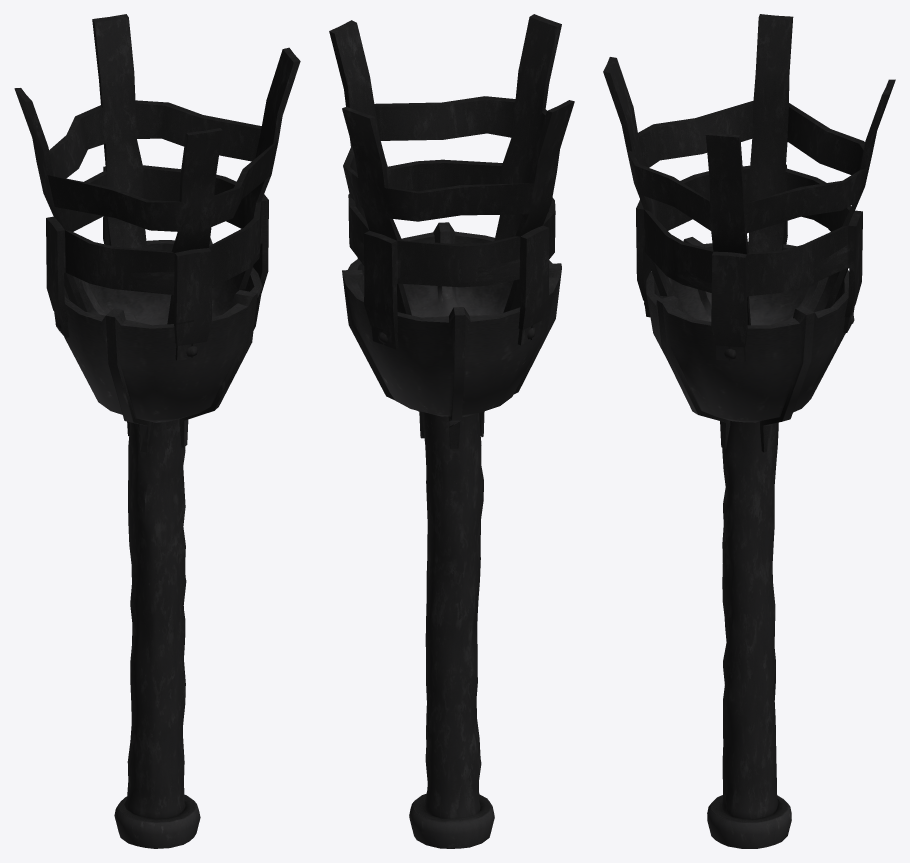
Rendered from torch.fbx.
3 renders of one model, left to right at view 1: azimuth 30°, elevation 25°; view 2: azimuth 150°, elevation 25°; view 3: azimuth 270°, elevation 25°, orthographic.
Parts seen in each view (by area): view 1: Torch; view 2: Torch; view 3: Torch.
Boxes of the visible parts, x1,y1,x2,y2 form: Torch: (14, 14, 300, 848); Torch: (329, 14, 574, 848); Torch: (603, 14, 895, 848).
Size of the model in its own units: 17.74 by 51.02 by 17.77.
1 material, 1 textured.
